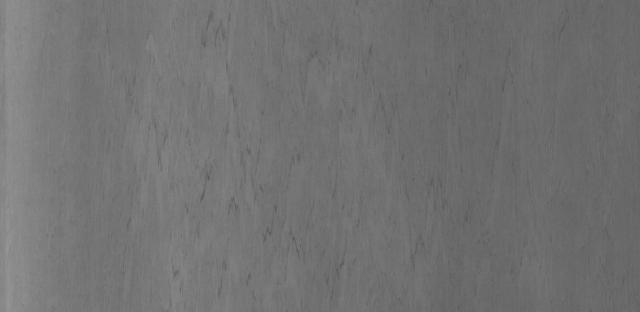silk_spot: (115, 6, 471, 294)
